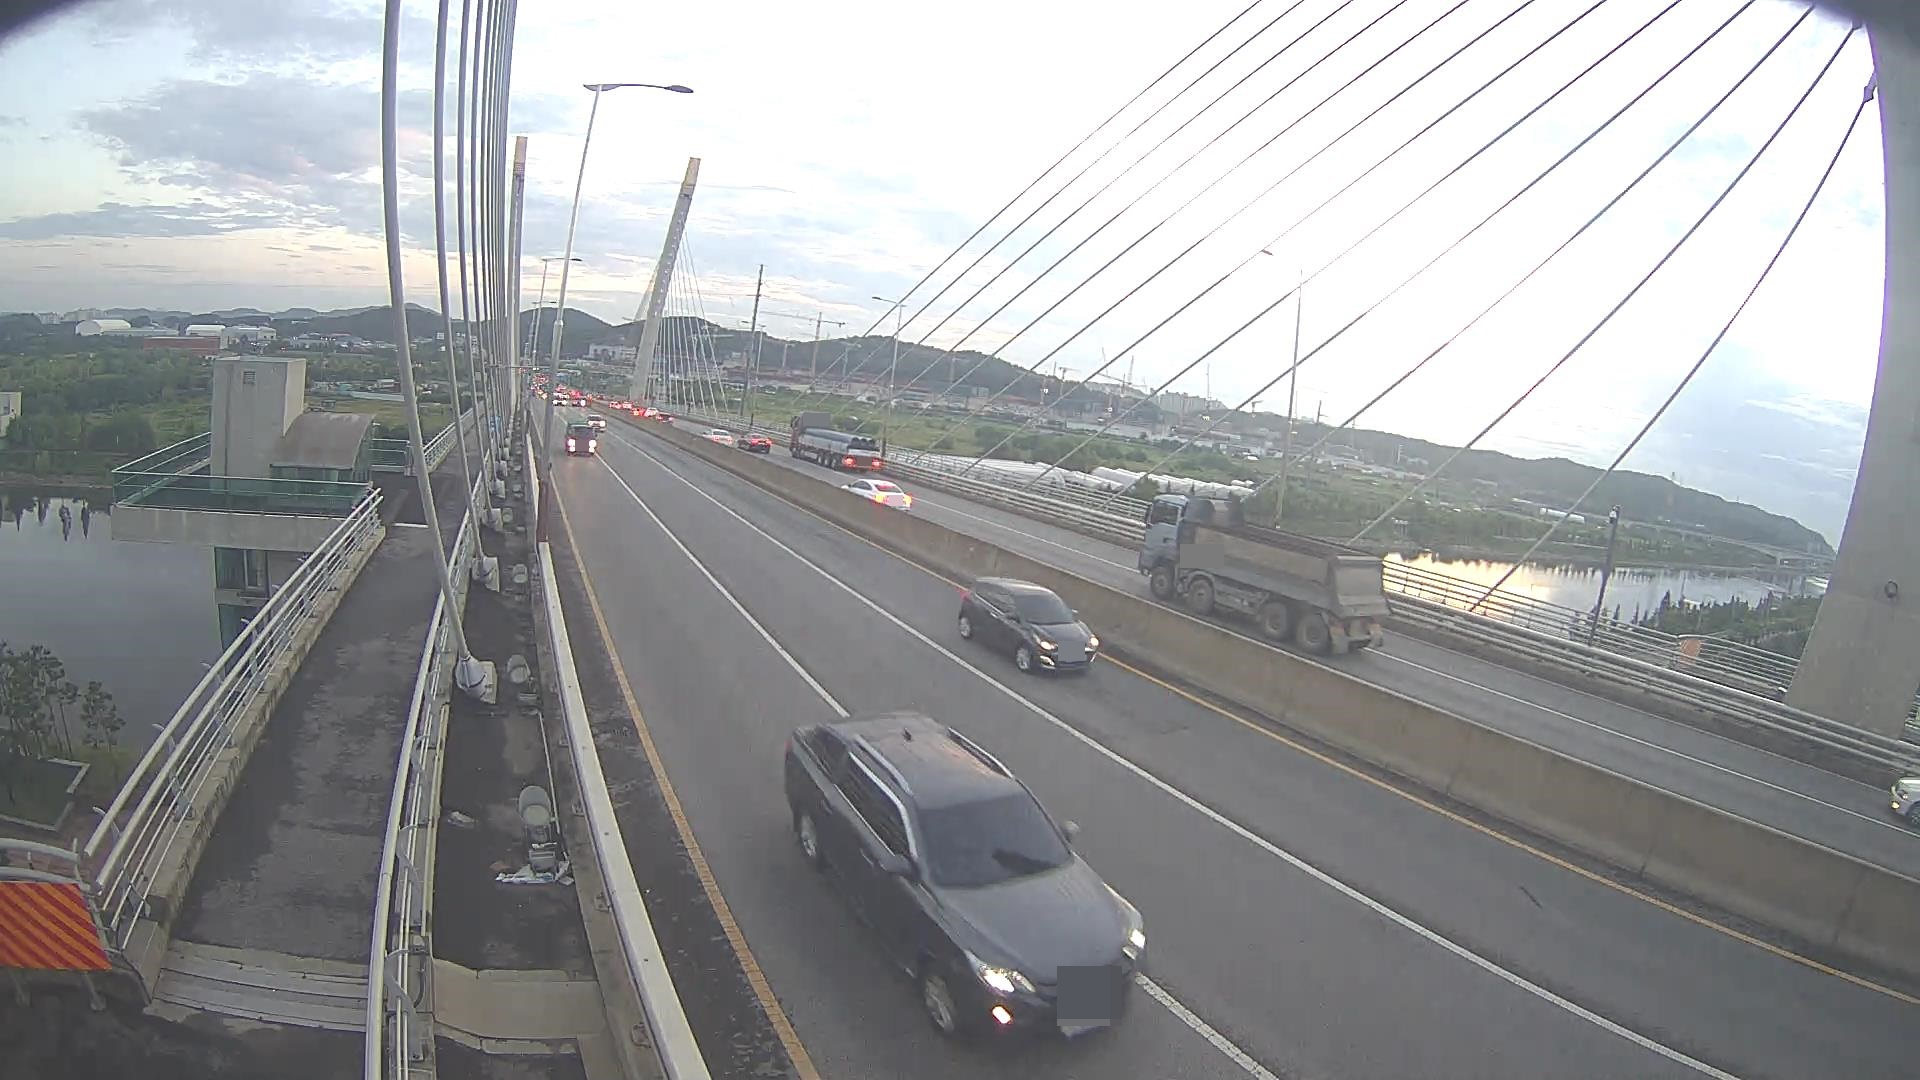정상차량: (1137, 492, 1394, 655)
